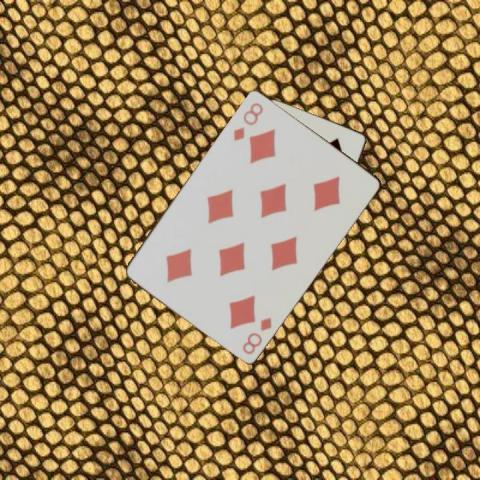8d: (230, 99, 265, 142), (239, 313, 273, 356)
